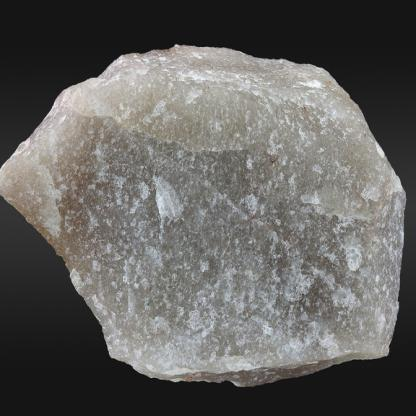Metamorphic_Quartize: (0, 38, 414, 386)
